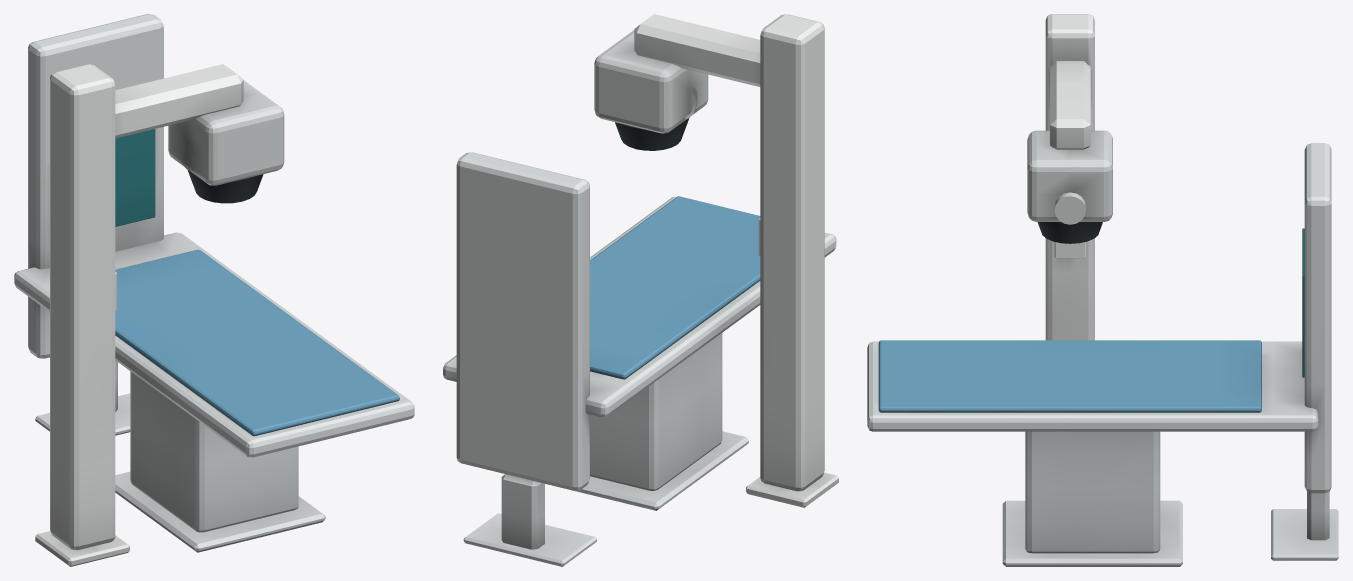
Rendered from xray.glb.
The picture shows the model from 3 angles, left to right: view 1: azimuth 30°, elevation 25°; view 2: azimuth 150°, elevation 25°; view 3: azimuth 270°, elevation 25°; orthographic projection. The views are drawn at different scales.
Parts seen in each view (by area): view 1: column, table, pad, detector, tube, arm, plate, collimator; view 2: detector, column, table, pad, tube, arm, collimator; view 3: table, pad, detector, column, tube, arm, collimator.
Part boxes in pixels (x1,y1,x2,y2): column: (35, 64, 129, 566); table: (14, 232, 414, 552); pad: (115, 249, 399, 436); detector: (28, 14, 163, 435); tube: (168, 80, 284, 185); arm: (115, 64, 243, 138); plate: (115, 129, 155, 226); collimator: (187, 170, 263, 203); detector: (456, 152, 596, 566); column: (746, 14, 838, 507); table: (443, 196, 836, 510); pad: (590, 196, 760, 379); tube: (594, 30, 708, 133); arm: (634, 14, 760, 86); collimator: (615, 118, 688, 150); table: (867, 341, 1318, 566); pad: (878, 340, 1261, 412); detector: (1271, 143, 1338, 560); column: (1045, 14, 1094, 340); tube: (1027, 130, 1112, 224); arm: (1050, 61, 1090, 149); collimator: (1037, 222, 1102, 243).
Bounding box in the file's own units: 1.26 × 2.2 × 2.09.
